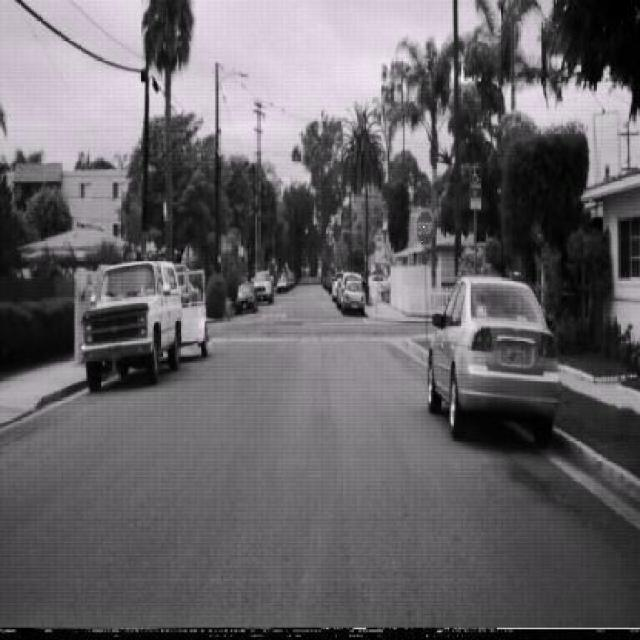stop: (415, 208, 434, 247)
